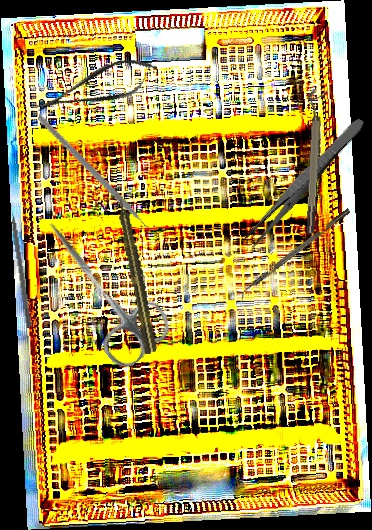Chopper: (14, 112, 174, 248), (235, 208, 355, 303)
Dressing Forceps: (242, 113, 367, 250)
Fixation Ring: (297, 88, 328, 235)
Handpiece: (112, 192, 159, 355)
Iris Scissors: (20, 203, 178, 374)
Micro Scissor: (31, 49, 163, 125)
Pusher: (7, 197, 34, 328)
